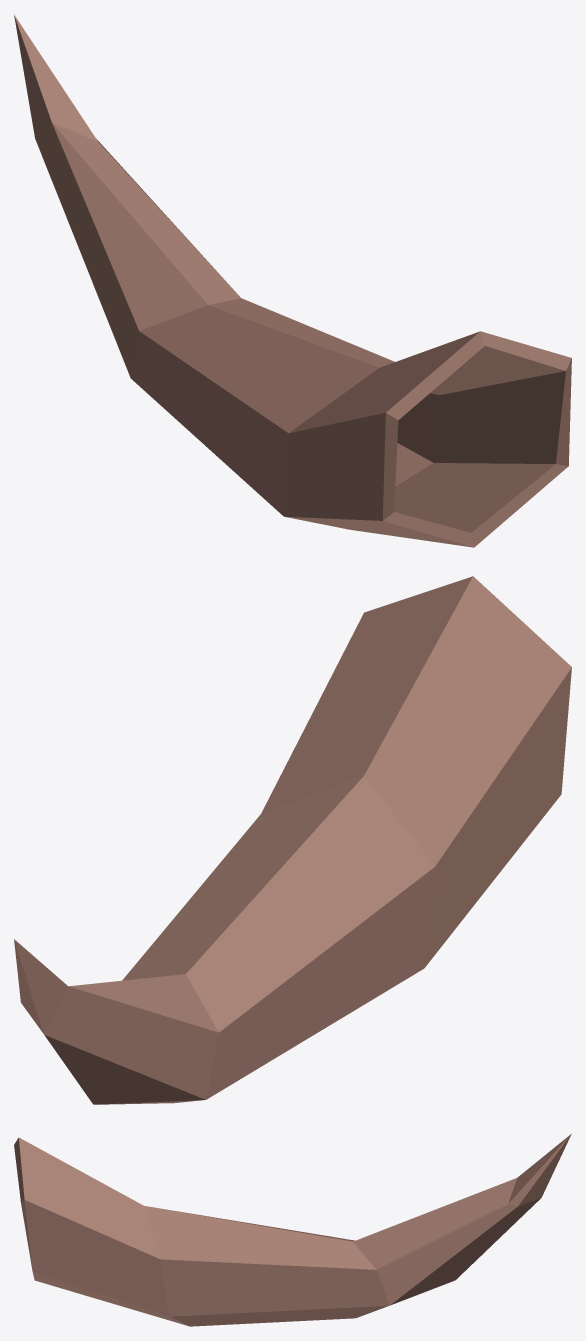
File: Horn.fbx
The picture shows the model from 3 angles, top to bottom: view 1: azimuth 30°, elevation 25°; view 2: azimuth 150°, elevation 25°; view 3: azimuth 270°, elevation 25°; orthographic projection. The views are drawn at different scales.
Visible parts, largest first — view 1: Horn; view 2: Horn; view 3: Horn.
Boxes of the visible parts, left/top/right/bottom form: Horn: left=14, top=15, right=571, bottom=547; Horn: left=14, top=576, right=571, bottom=1104; Horn: left=14, top=1133, right=571, bottom=1326.
Bounding box in the file's own units: 14.47 × 21.67 × 58.56.
